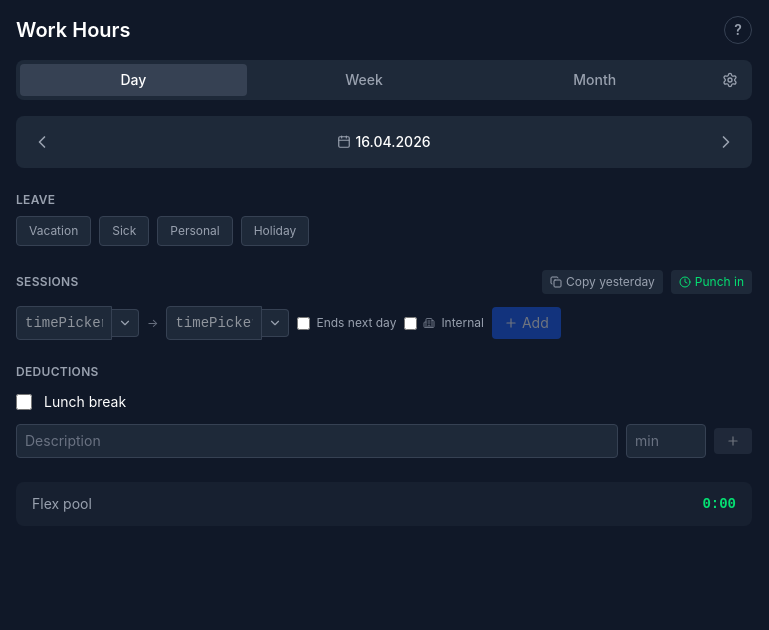
Test case: WorkHoursPage live punch estimate UI › keeps estimating when the clock ticks past midnight on a punch-in made in this session
Step 1. Click the button labelled "Punch in" → (711, 282), box 671,270 -> 752,294
Wait 60000 ms
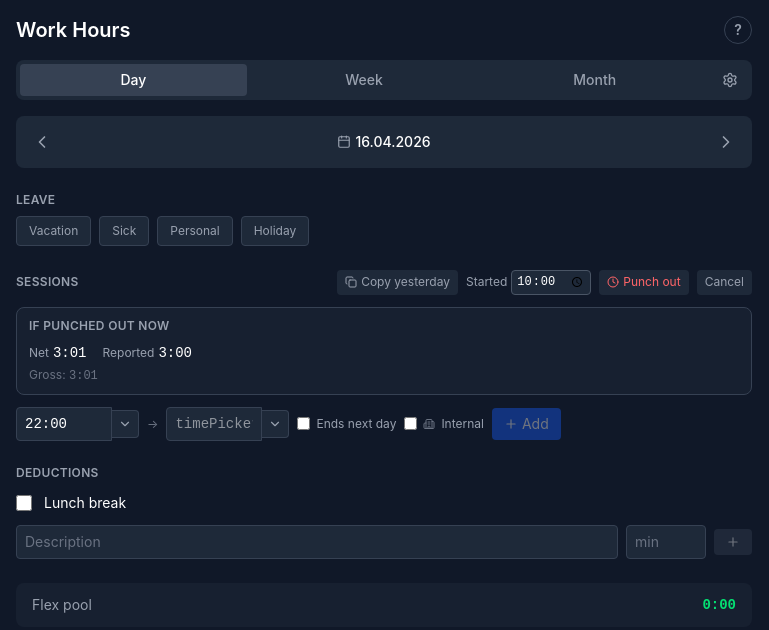
Expected: the heading "If punched out now" is shown, 29,318 -> 170,333
Expected: the text "3:00" is shown, 158,345 -> 192,361
# Cancelling clears the punch date along with the punch itself.
Step 2. Click the button labelled "Cancel" → (724, 282), box 697,270 -> 752,295
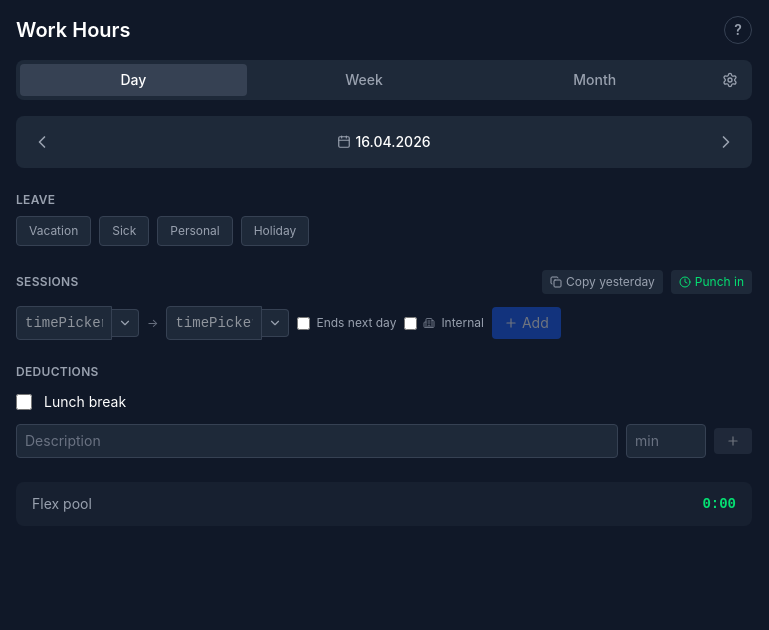
Expected: the heading "If punched out now" is gone
Expected: the button labelled "Punch in" is shown, 671,270 -> 752,294
